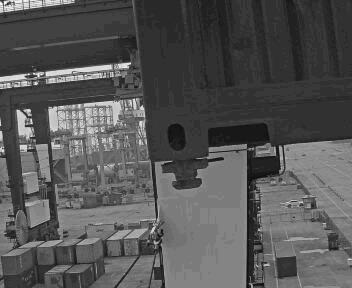twist_lock_1: (152, 152, 216, 202)
